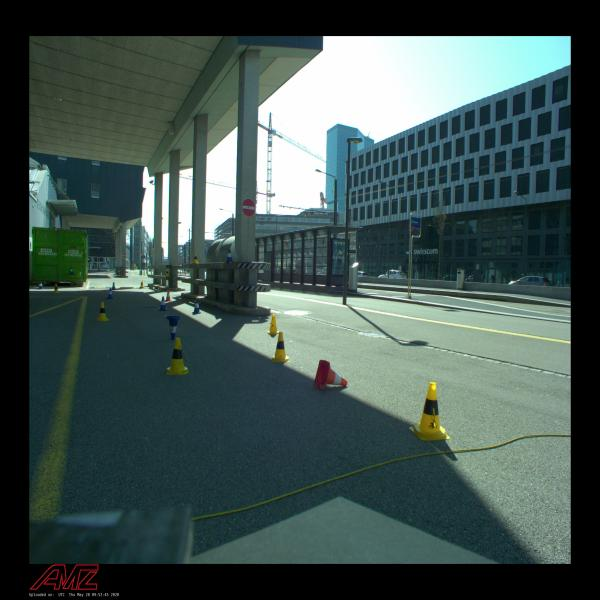blue_cone: (164, 316, 183, 340), (157, 296, 168, 311), (192, 299, 202, 314), (226, 249, 233, 262), (107, 288, 114, 299), (38, 281, 44, 289), (112, 282, 116, 290), (70, 267, 74, 274)
orange_cone: (313, 360, 348, 390), (165, 290, 172, 301)
yellow_cone: (409, 382, 450, 441), (167, 338, 188, 374), (271, 332, 290, 363), (96, 302, 110, 322), (267, 314, 279, 335), (53, 284, 60, 294), (194, 254, 199, 264), (140, 280, 145, 288), (166, 269, 170, 277)
